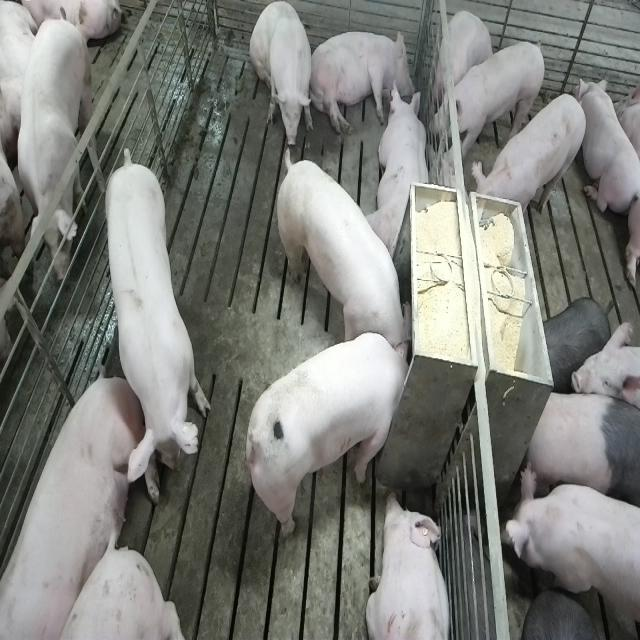Feeding: (249, 332, 420, 540), (274, 143, 410, 359)
Lateral_lying: (308, 26, 417, 136)
Sitting: (250, 1, 315, 149)
Standing: (102, 148, 208, 490), (0, 216, 73, 618), (8, 8, 104, 296), (499, 466, 638, 640), (473, 92, 588, 234), (517, 384, 638, 513), (431, 38, 546, 164), (524, 590, 610, 640)
Sternal_lying: (368, 491, 455, 640), (368, 84, 432, 263), (579, 73, 638, 221)
